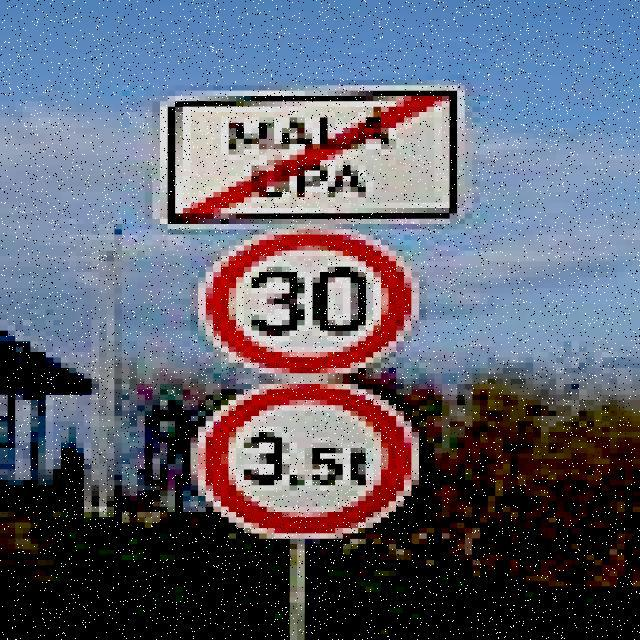Traffic sign: (149, 76, 478, 558)
